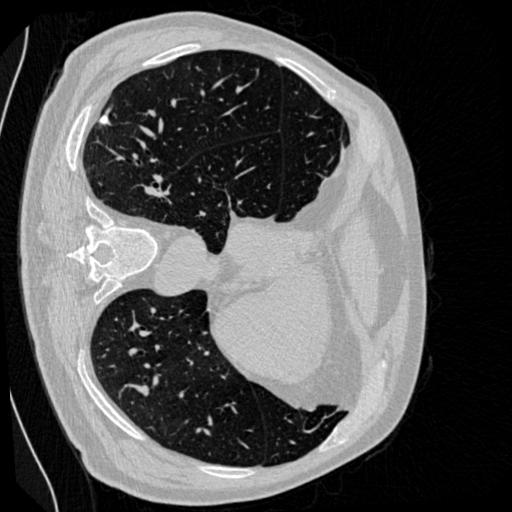nodule: (99, 114, 112, 127)
